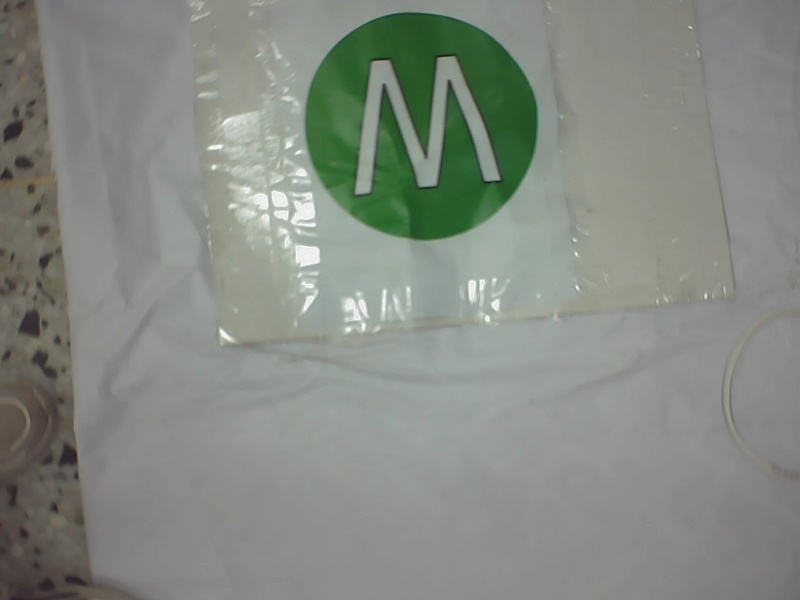areaB: (295, 9, 551, 247)
